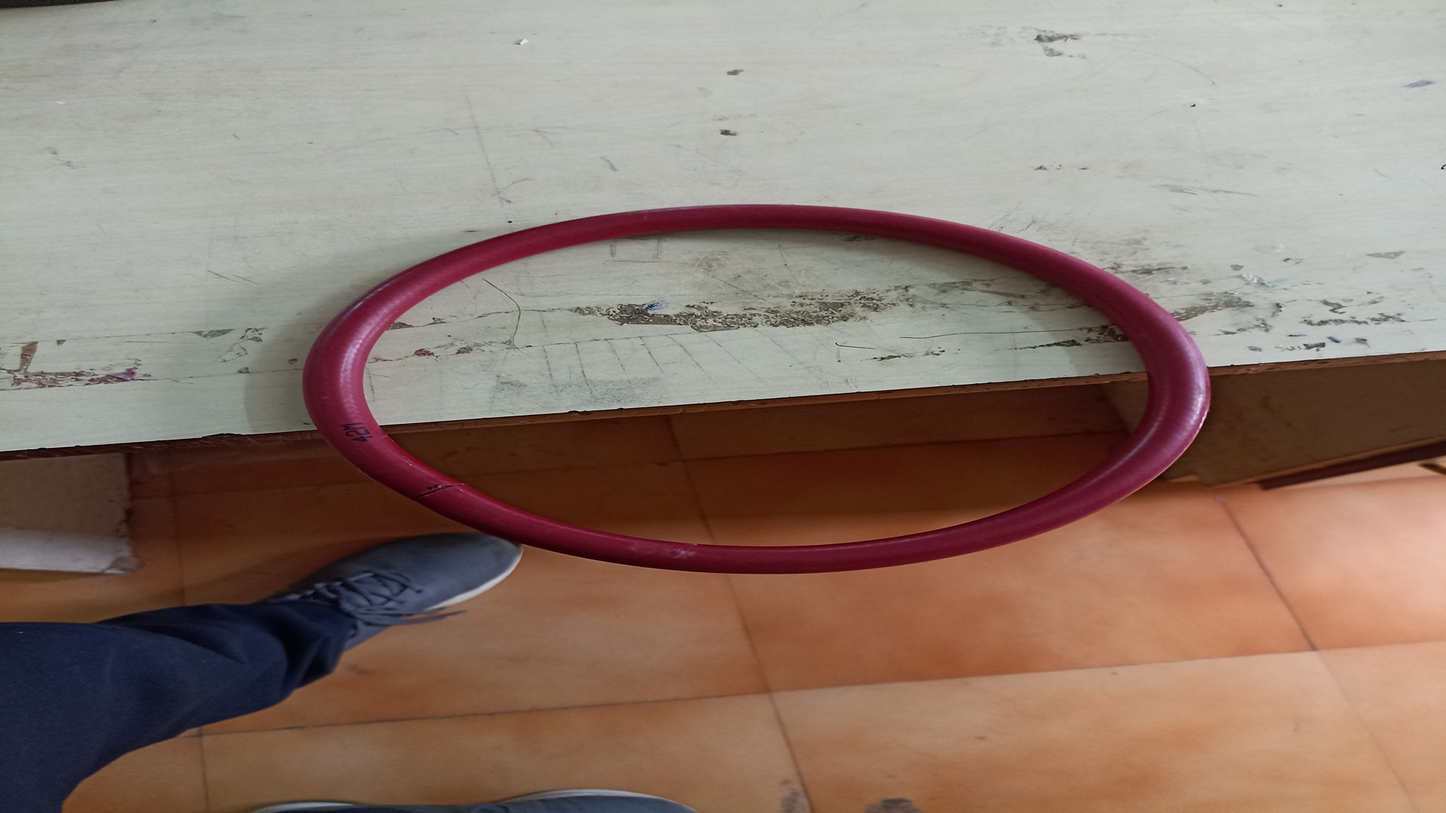Red ring: (304, 202, 1216, 571)
